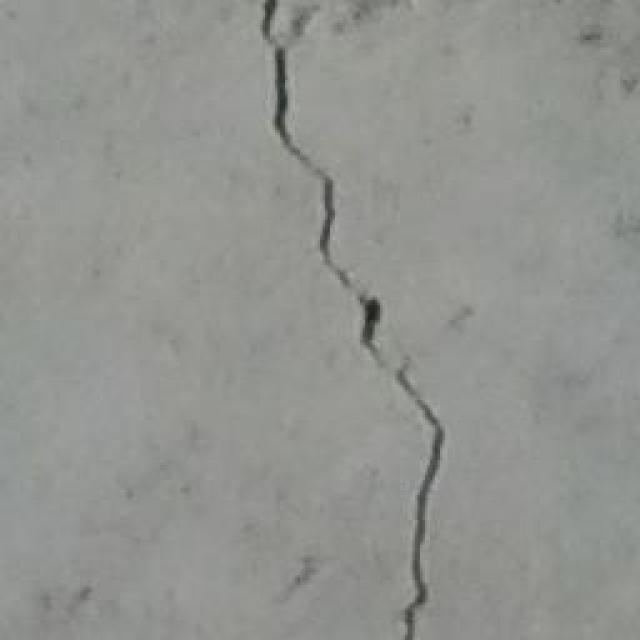Longitudinal: (253, 13, 457, 640)
